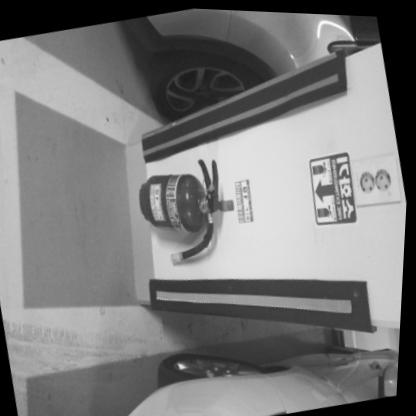FE: (135, 157, 230, 238)
